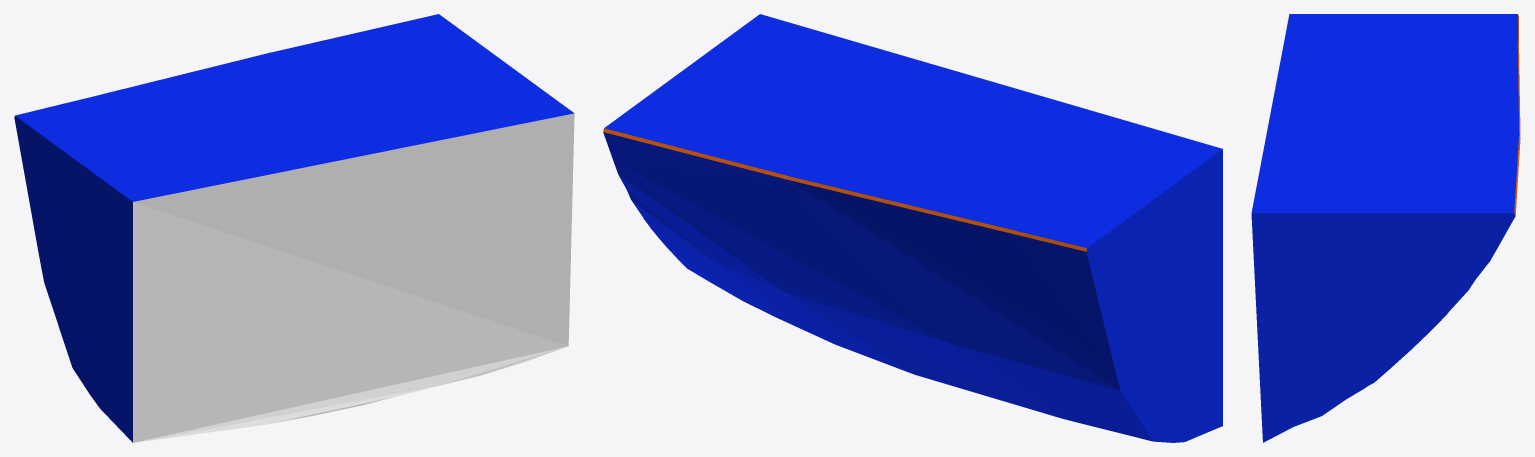
The model's file is centerRight.dae.
3 renders of one model, left to right at view 1: azimuth 30°, elevation 25°; view 2: azimuth 150°, elevation 25°; view 3: azimuth 270°, elevation 25°, orthographic. The views are drawn at different scales.
Parts seen in each view (by area): view 1: node; view 2: node; view 3: node.
Boxes of the visible parts, box(x1,y1,x2,y2) form: node: box(14, 14, 574, 442); node: box(603, 14, 1222, 442); node: box(1251, 14, 1520, 442).
Bounding box in the file's own units: 1.8 × 1.02 × 1.03.
Materials: 3 (3 with a texture image).
